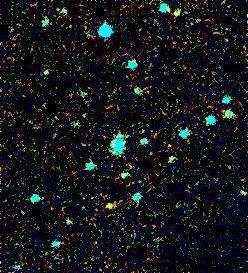star: (29, 56, 59, 86)
